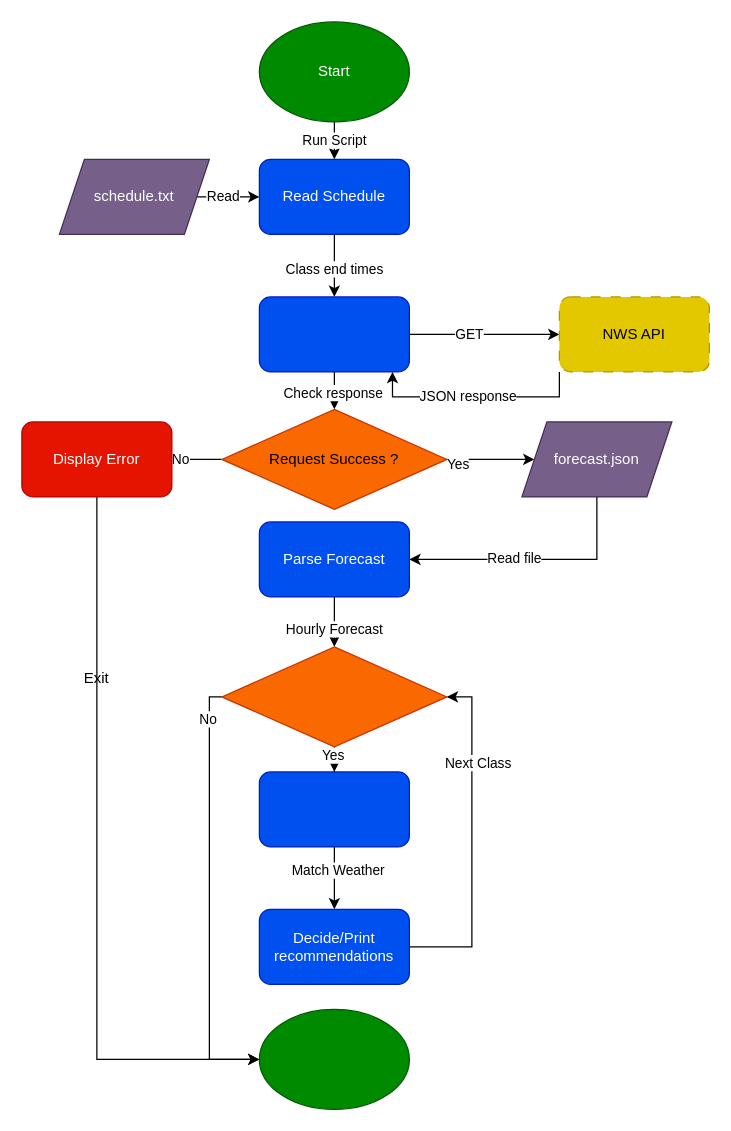
This 731x1131 diagram has some shape labels left out. Each missing label, with the centre of its shape:
End: (x=333, y=1058)
Get class time: (x=333, y=809)
Get Forecast: (x=333, y=334)
More classes ?: (x=334, y=696)
